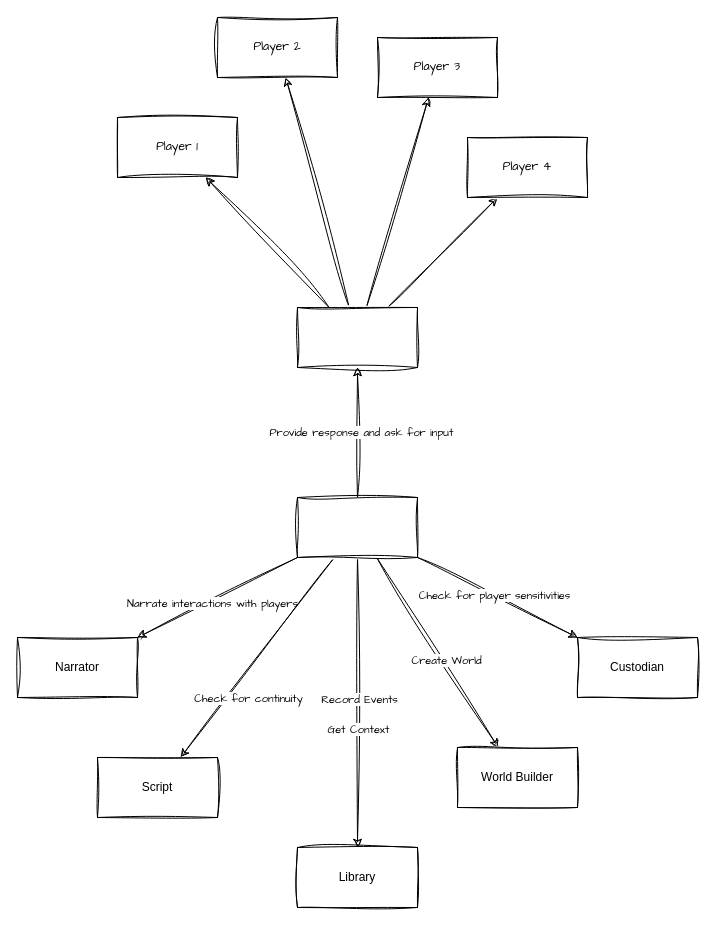
The diagram is 715 pixels wide and 925 high, and some of its shapes have lost their labels. The shapes that lost their labels are listed below. From the top down, each one's centre as x and y in pixels, then its label:
pixel 357 337: Actor
pixel 357 527: Game Master
